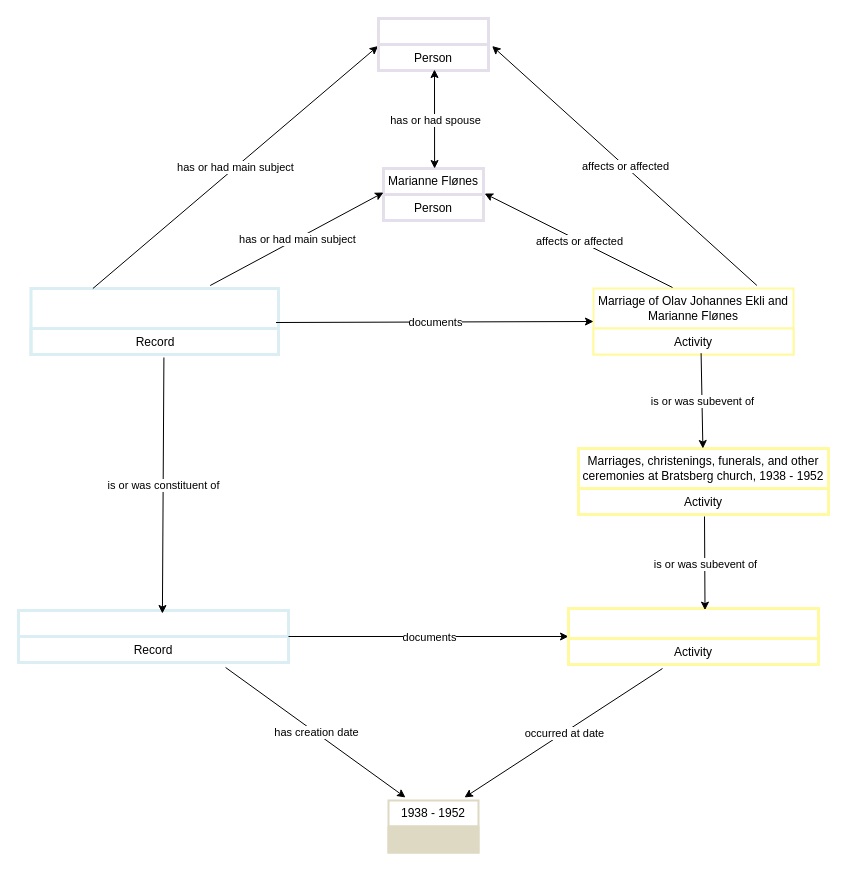
Image size: 847x873. Some labels were removed from this diagram. Here are the shapes that lost their labels. From the top down, the box of each, then its label:
(376, 16, 490, 72): Olav Johannes Ekli
(29, 286, 280, 356): Parish register entry for the marriage of Olav Johannes Ekli and Marianne Flønes
(16, 608, 290, 664): Parish register for Bratsberg church, 1938-1952
(566, 606, 820, 666): Activity of Bratsberg church, 1938 - 1952
(387, 825, 479, 853): Date
